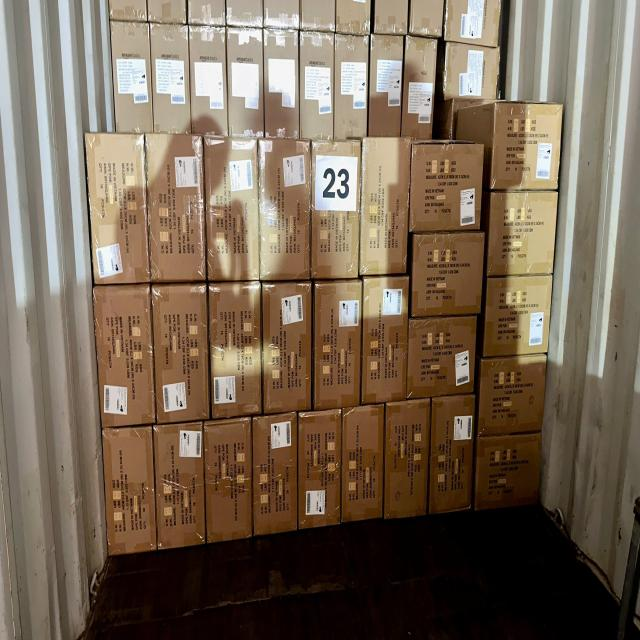Carton: (85, 132, 151, 287), (144, 132, 208, 284), (92, 286, 156, 428), (203, 133, 261, 284), (152, 285, 211, 423), (208, 282, 264, 420), (259, 139, 311, 281), (102, 428, 156, 556), (410, 140, 482, 232), (312, 279, 364, 406), (155, 426, 207, 552), (262, 282, 312, 412), (361, 138, 407, 277), (204, 422, 254, 548), (312, 140, 358, 276), (494, 101, 562, 192), (252, 417, 300, 540), (362, 274, 408, 402), (488, 190, 556, 276), (483, 276, 555, 356), (413, 232, 481, 316), (408, 316, 478, 396), (341, 406, 386, 524), (298, 412, 342, 532), (479, 354, 547, 431), (384, 403, 428, 522), (475, 432, 541, 510), (432, 397, 474, 515)
